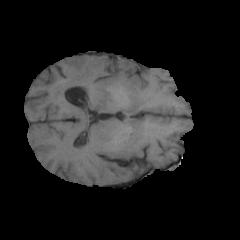glioma: (53, 57, 154, 112)
